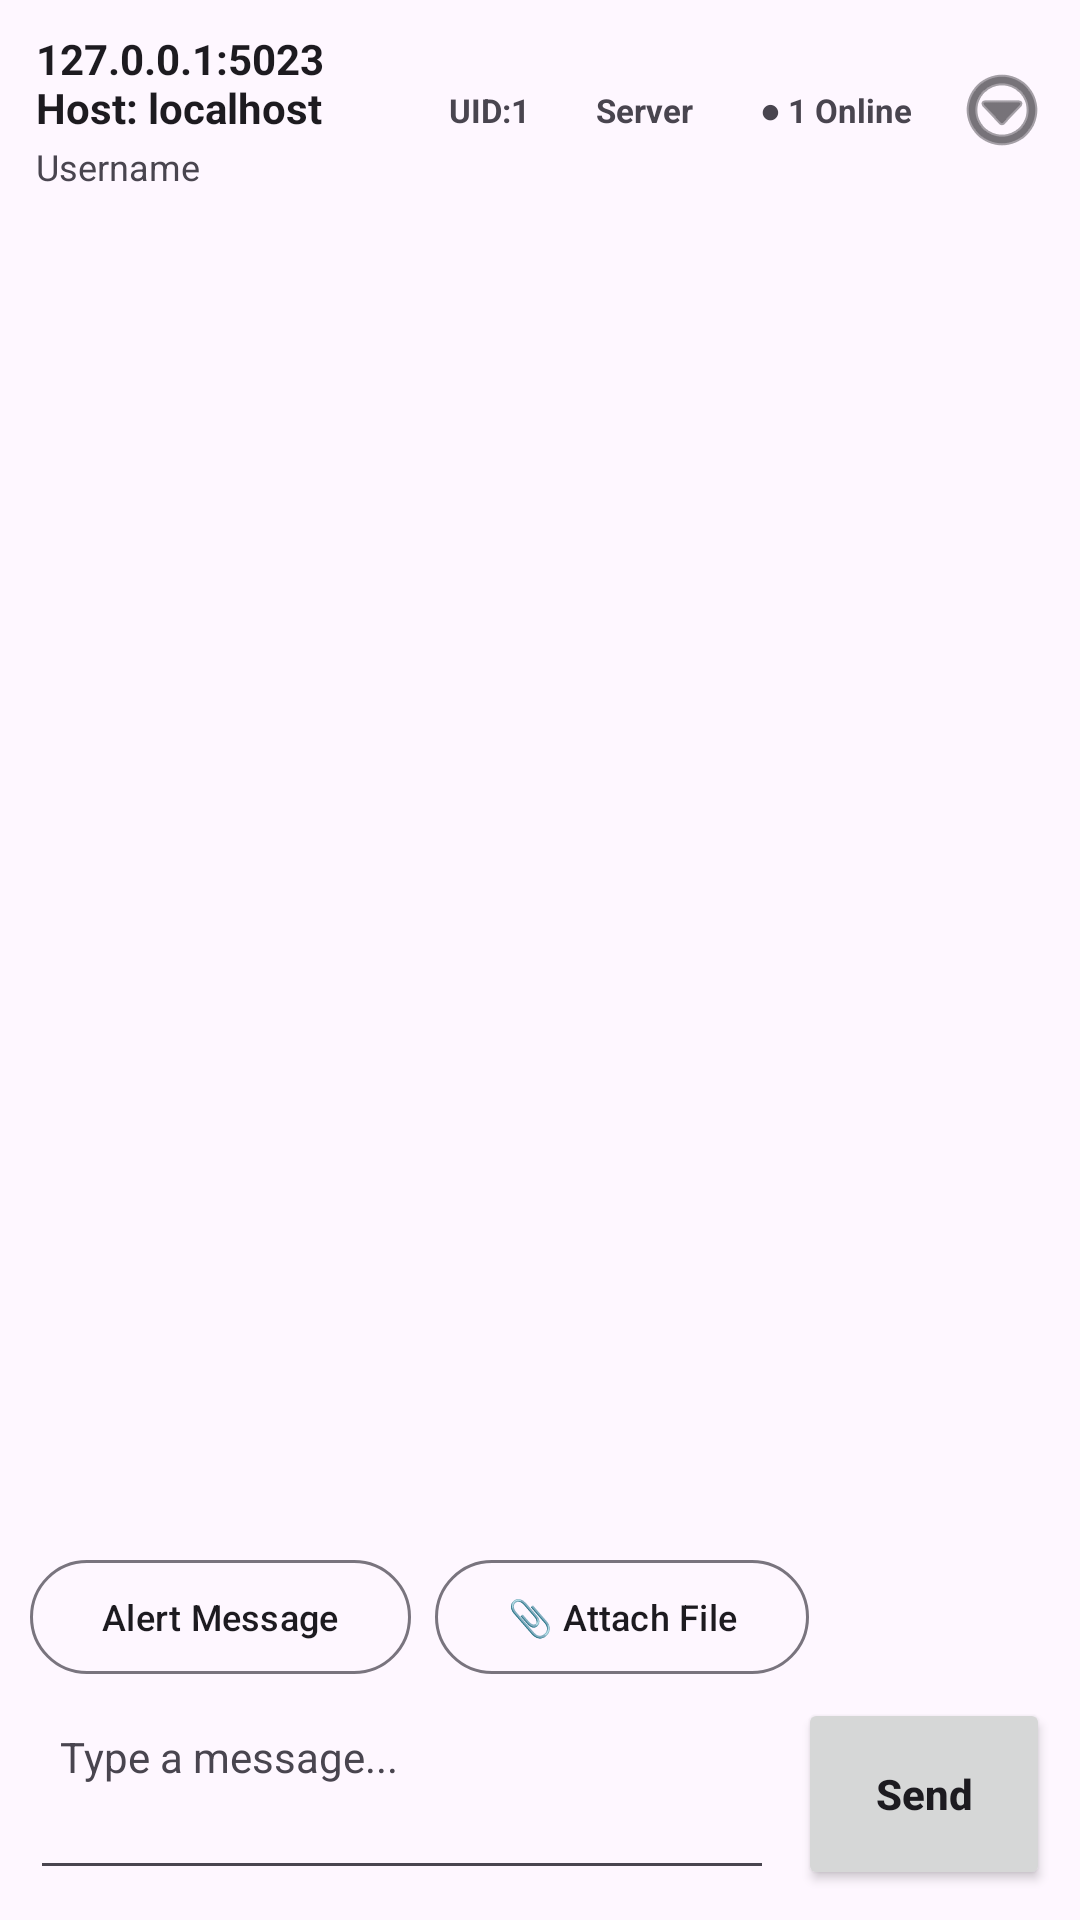

Locate icon controls on the screen. Image size 1080*1920, boxes as bbox=[x1, y1, x2, y2].
More Options: bbox=[966, 74, 1038, 146]
